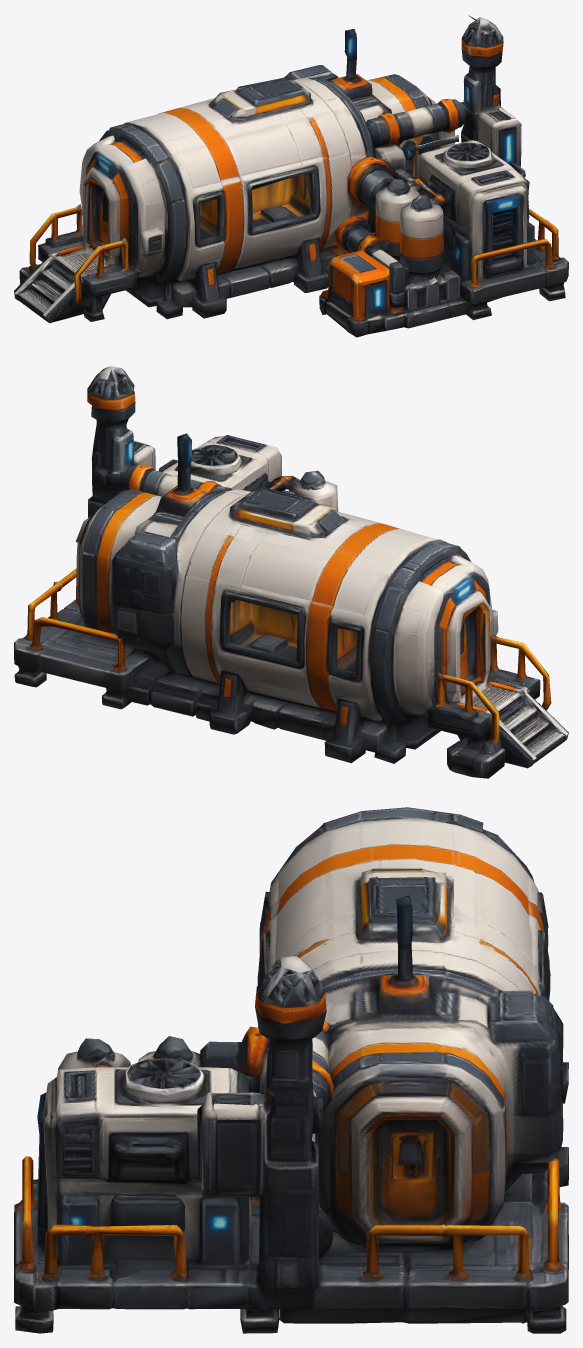
File: building-habitat-l1.glb
The picture shows the model from 3 angles, top to bottom: view 1: azimuth 30°, elevation 25°; view 2: azimuth 150°, elevation 25°; view 3: azimuth 270°, elevation 25°; orthographic projection. The views are drawn at different scales.
Visible parts, largest first — view 1: tripo_node_340dbc48-57cc-4b38-8049-c20548314711; view 2: tripo_node_340dbc48-57cc-4b38-8049-c20548314711; view 3: tripo_node_340dbc48-57cc-4b38-8049-c20548314711.
Boxes of the visible parts, x1,y1,x2,y2 form: tripo_node_340dbc48-57cc-4b38-8049-c20548314711: (14, 15, 568, 337); tripo_node_340dbc48-57cc-4b38-8049-c20548314711: (14, 366, 568, 778); tripo_node_340dbc48-57cc-4b38-8049-c20548314711: (14, 807, 568, 1333).
Bounding box in the file's own units: 0.9776 × 0.4761 × 0.6347.
1 material, 1 textured.
